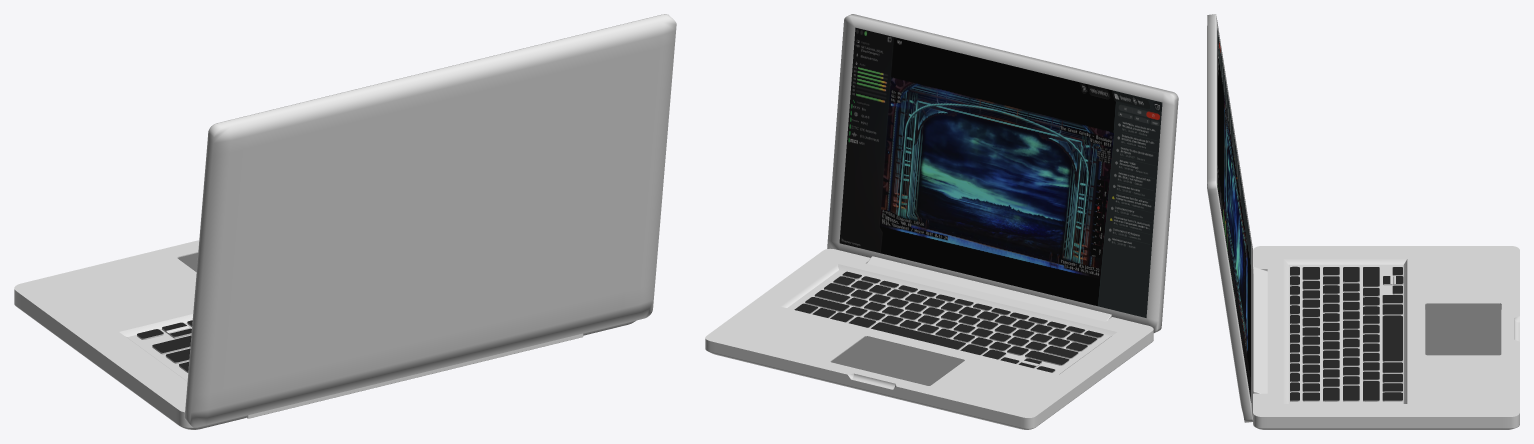
File: laptop.fbx
3 renders of one model, left to right at view 1: azimuth 30°, elevation 25°; view 2: azimuth 150°, elevation 25°; view 3: azimuth 270°, elevation 25°, orthographic. The views are drawn at different scales.
Visible parts, largest first — view 1: Cube.004; view 2: Cube.004; view 3: Cube.004.
Part boxes in pixels (left/top/right/bottom): Cube.004: left=14, top=14, right=676, bottom=429; Cube.004: left=705, top=14, right=1178, bottom=429; Cube.004: left=1207, top=14, right=1519, bottom=429.
Bounding box in the file's own units: 36.69 × 24.81 × 28.26.
Materials: 10 (1 with a texture image).
